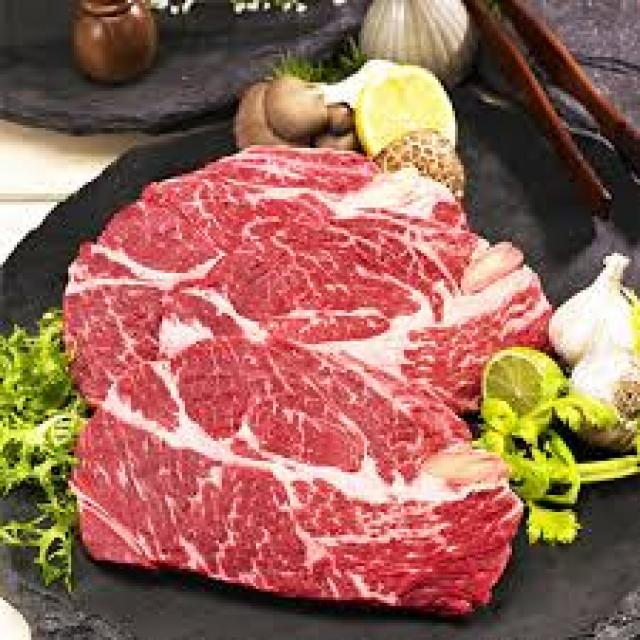beef: (74, 319, 523, 616)
